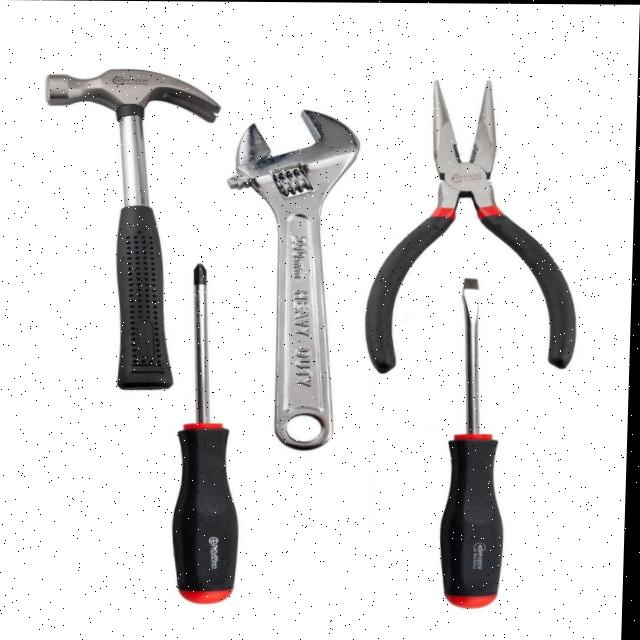Screwdriver: (176, 264, 241, 603), (444, 278, 507, 607)
